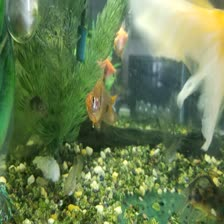Plano: (105, 20, 131, 58)
Transparente: (76, 80, 131, 126)
